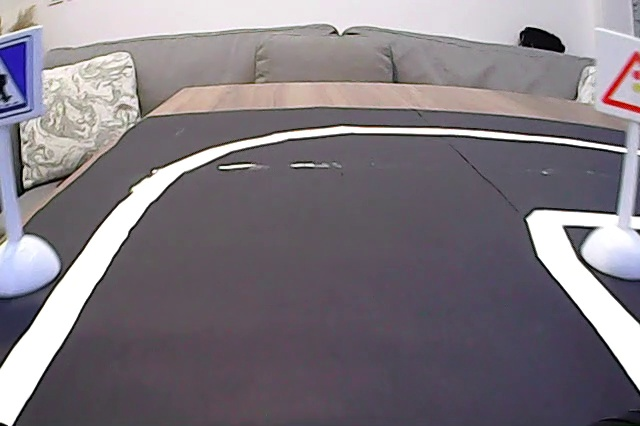red light: (599, 37, 640, 115)
